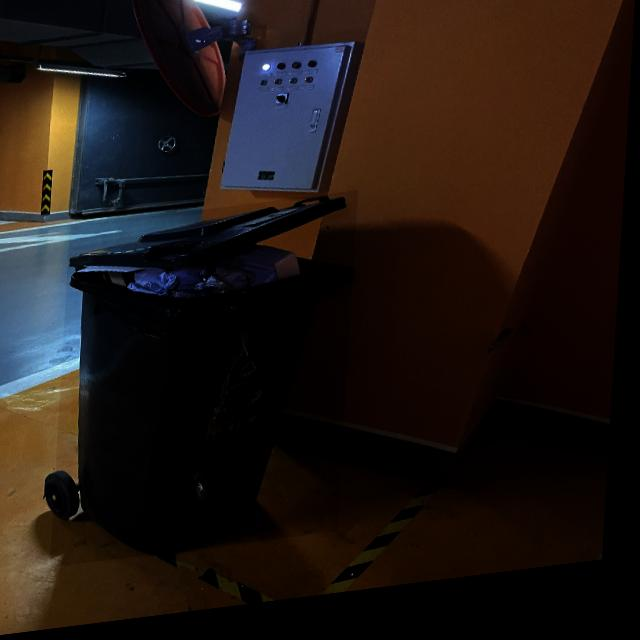overflow: (57, 200, 361, 570)
